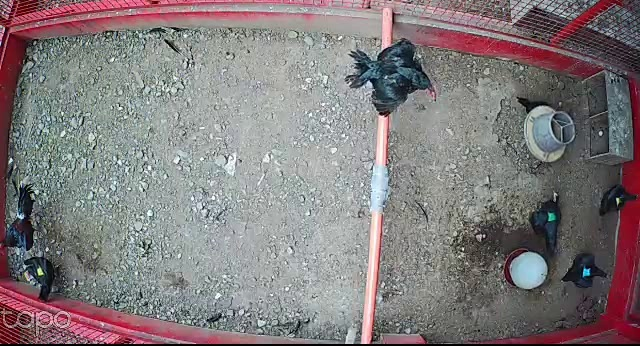Chicken: (347, 39, 442, 119), (527, 188, 566, 262), (556, 251, 612, 292), (21, 256, 62, 302), (597, 181, 640, 220), (516, 93, 554, 115)
Feeder: (523, 105, 580, 162)
Rooster: (0, 184, 39, 258)
Saddle_Color_Blue: (581, 266, 592, 280)
Saddle_Color_Yellow: (37, 267, 45, 275)
Saddle_Color_YellowGreen: (615, 196, 624, 205)
